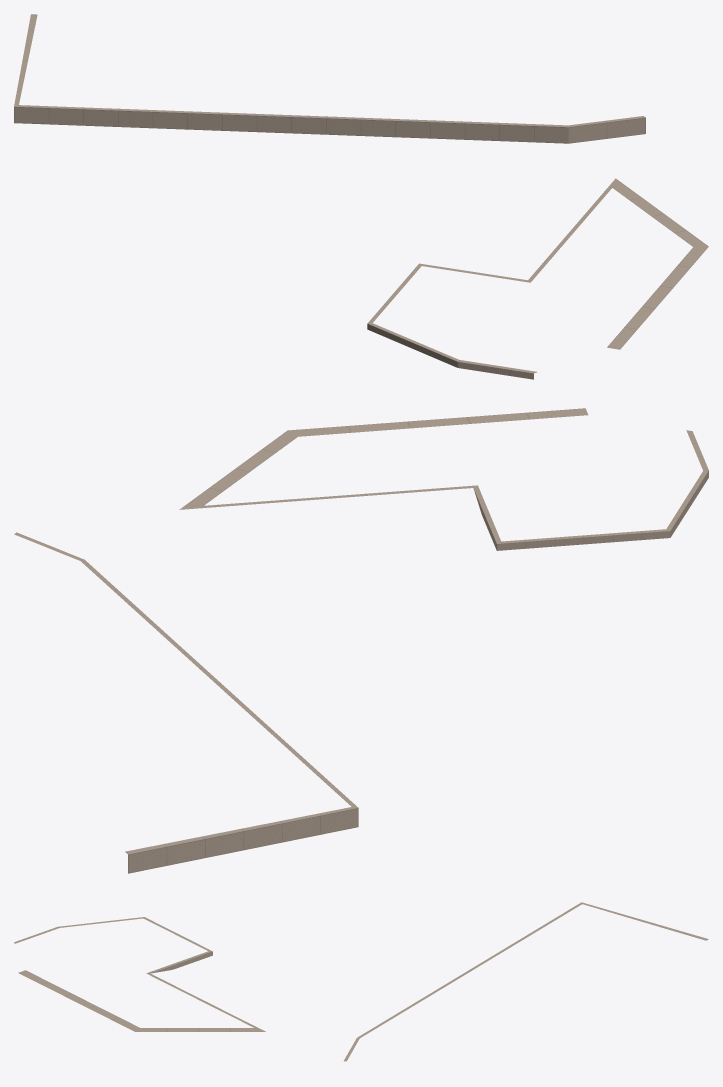
The model's file is kd_stage_13612f_4_9_bounded.glb.
3 renders of one model, top to bottom at view 1: azimuth 30°, elevation 25°; view 2: azimuth 150°, elevation 25°; view 3: azimuth 270°, elevation 25°, orthographic. The views are drawn at different scales.
Visible parts, largest first — view 1: kd_stage_13612f_4_9_bounded; view 2: kd_stage_13612f_4_9_bounded; view 3: kd_stage_13612f_4_9_bounded.
Boxes of the visible parts, x1,y1,x2,y2 form: kd_stage_13612f_4_9_bounded: (14,14,708,379); kd_stage_13612f_4_9_bounded: (14,408,708,873); kd_stage_13612f_4_9_bounded: (14,902,708,1061).
Size of the model in its own units: 23.67 by 0.8 by 43.74.
Materials: 1 (1 with a texture image).
